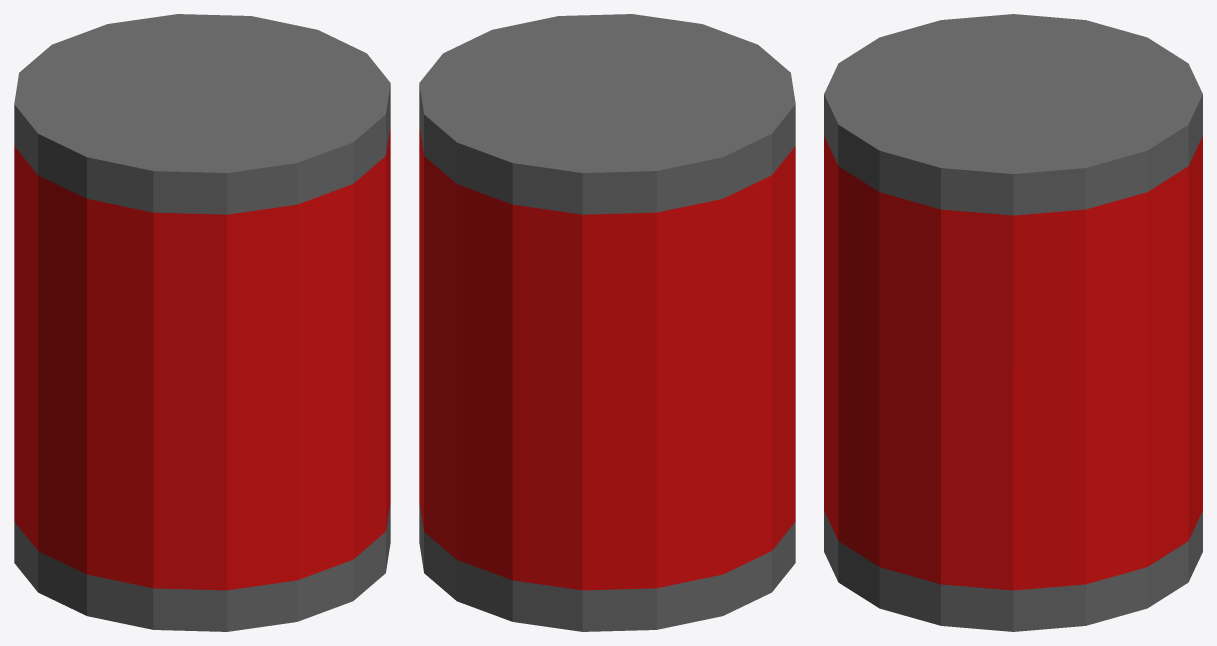
File: Tin.fbx
3 views of the same model, side by side, from view 1: azimuth 30°, elevation 25°; view 2: azimuth 150°, elevation 25°; view 3: azimuth 270°, elevation 25° (orthographic).
Parts seen in each view (by area): view 1: Cylinder; view 2: Cylinder; view 3: Cylinder.
Part boxes in pixels (x1,y1,x2,y2): Cylinder: (14, 14, 390, 631); Cylinder: (419, 14, 795, 631); Cylinder: (824, 14, 1202, 631).
Bounding box in the file's own units: 30 × 40 × 30.
